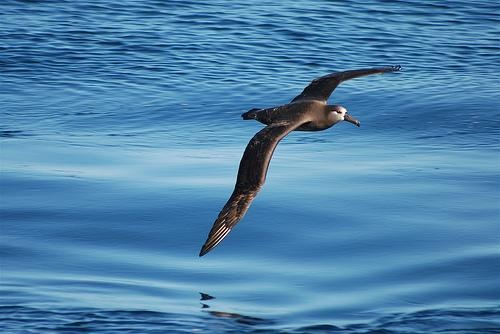bird: (196, 60, 404, 258)
